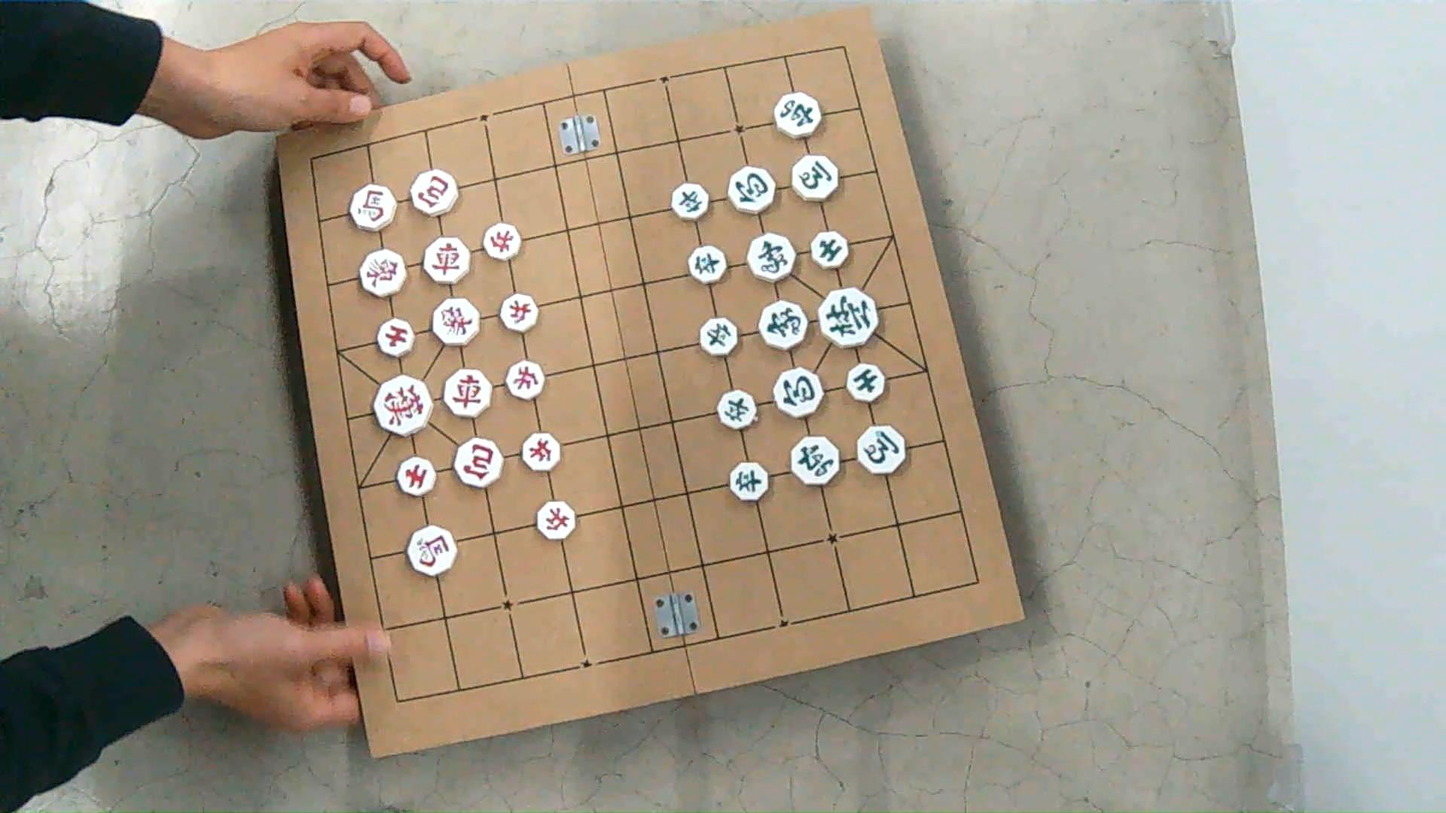cha_green: (791, 437, 840, 485), (774, 93, 821, 138)
cha_red: (444, 369, 491, 418), (423, 237, 470, 284)
jol_green: (729, 462, 768, 501), (718, 391, 756, 430), (688, 245, 726, 283), (700, 318, 737, 356), (672, 183, 709, 220)
jol_red: (505, 361, 545, 399), (521, 433, 560, 471), (537, 501, 575, 540), (501, 294, 538, 332), (484, 223, 520, 260)
ma_green: (858, 425, 905, 474), (792, 155, 837, 200)
ma_red: (408, 526, 457, 576), (350, 184, 395, 231)
po_green: (774, 368, 822, 418), (728, 166, 774, 214)
po_red: (454, 438, 502, 487), (411, 169, 458, 215)
sa_green: (847, 363, 885, 402), (810, 231, 847, 269)
sa_red: (396, 456, 435, 496), (377, 318, 414, 357)
sang_green: (760, 300, 808, 349), (749, 233, 795, 281)
sang_red: (432, 298, 479, 345), (359, 250, 405, 297)
wang_green: (819, 287, 878, 347)
wang_red: (374, 376, 431, 435)
